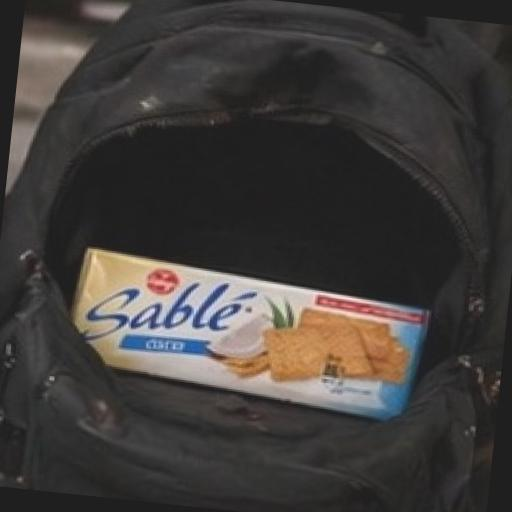sable: (11, 195, 512, 508)
